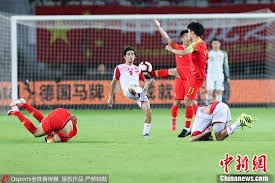falling: (181, 97, 257, 143)
